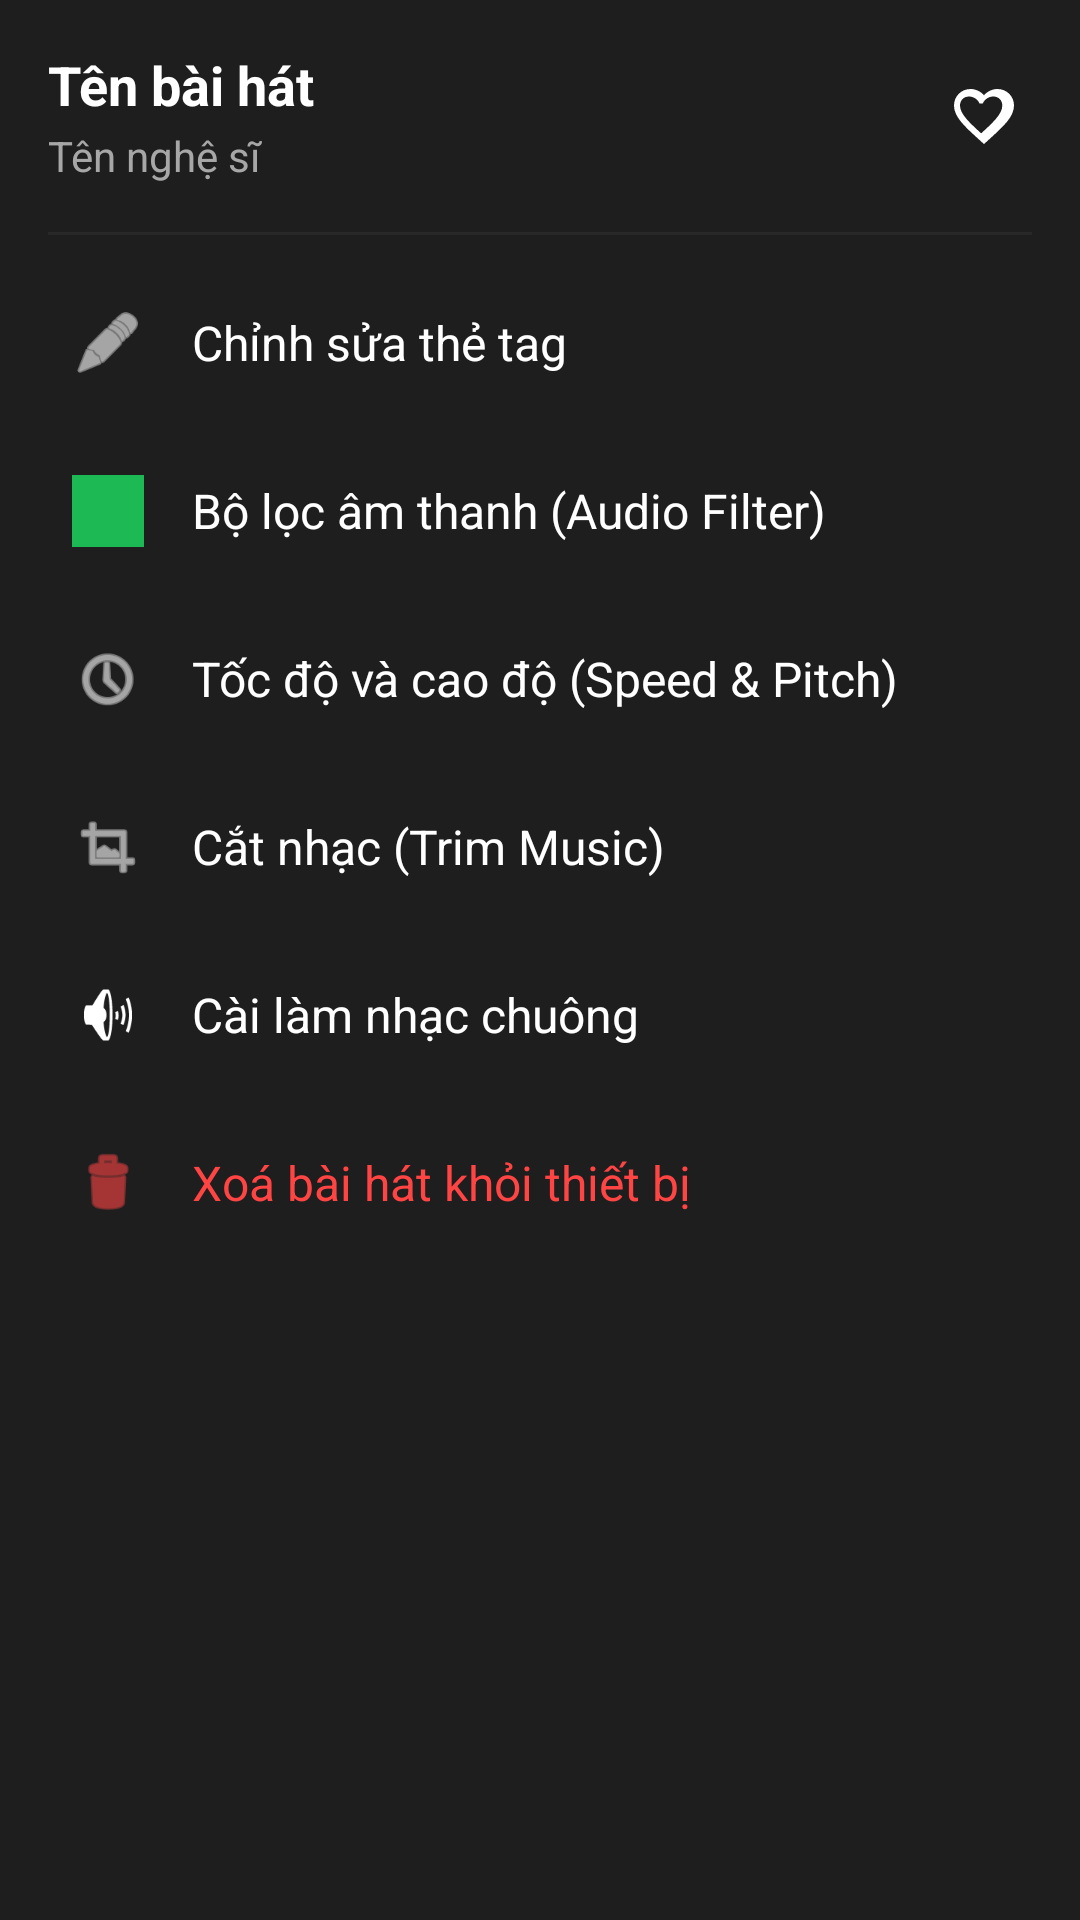

Where icons sit on this 1080*1920 app screen, as (x1, y1, x2, y2):
crop: (81, 821, 135, 873)
delete: (88, 1154, 129, 1210)
edit: (77, 312, 138, 373)
recent history: (82, 653, 134, 705)
